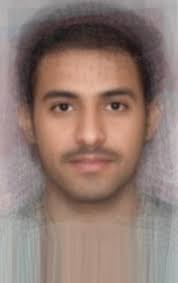middle_eastern_male: (23, 39, 156, 199)
